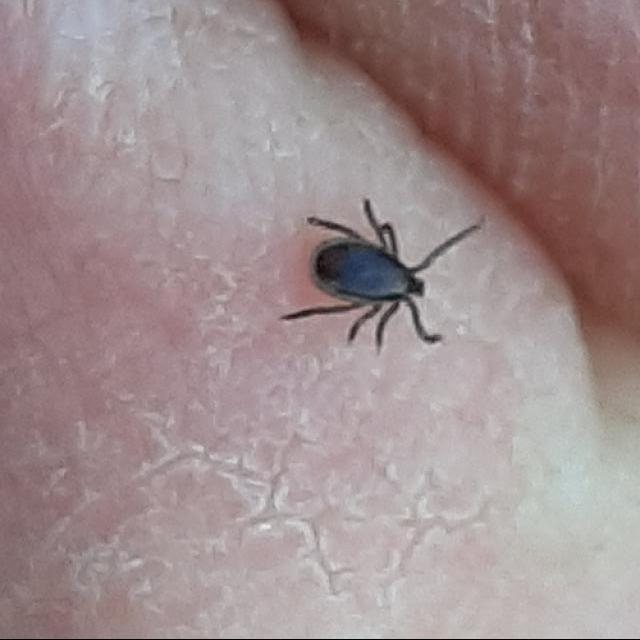Ixodes Ricinus-M: (285, 201, 465, 349)
